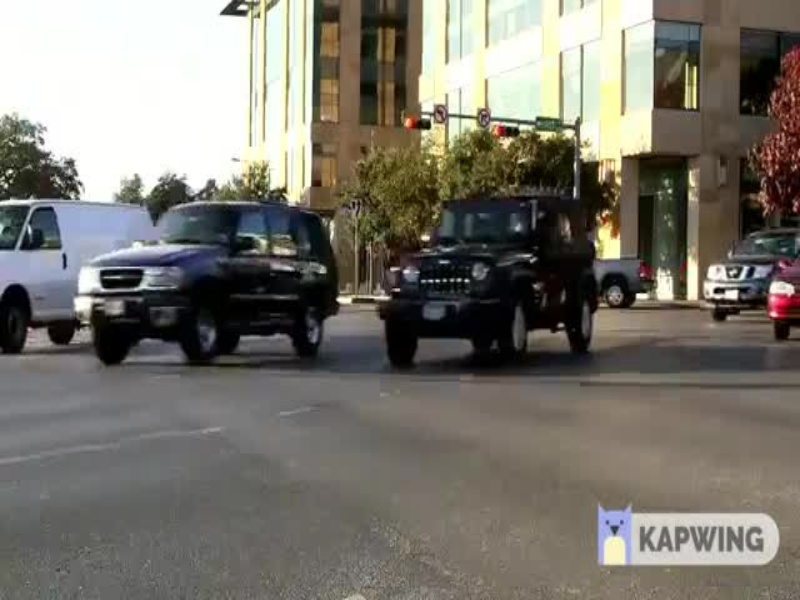car: (66, 202, 346, 369), (370, 194, 596, 375)
